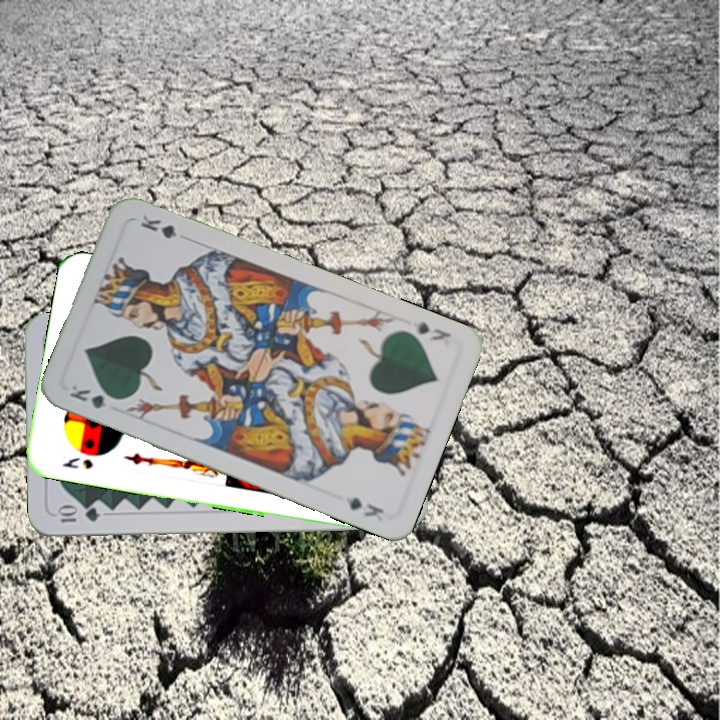G10: (53, 504, 103, 525)
GK: (65, 379, 123, 412), (407, 317, 454, 344)
SK: (58, 453, 96, 472)
